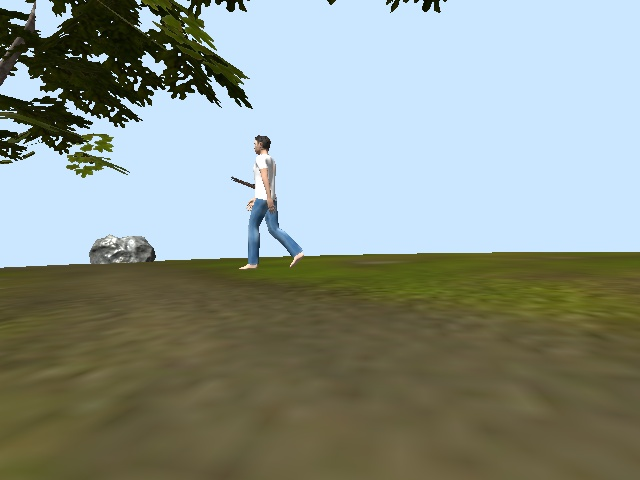animal: (237, 136, 305, 269)
rifle: (230, 173, 256, 190)
